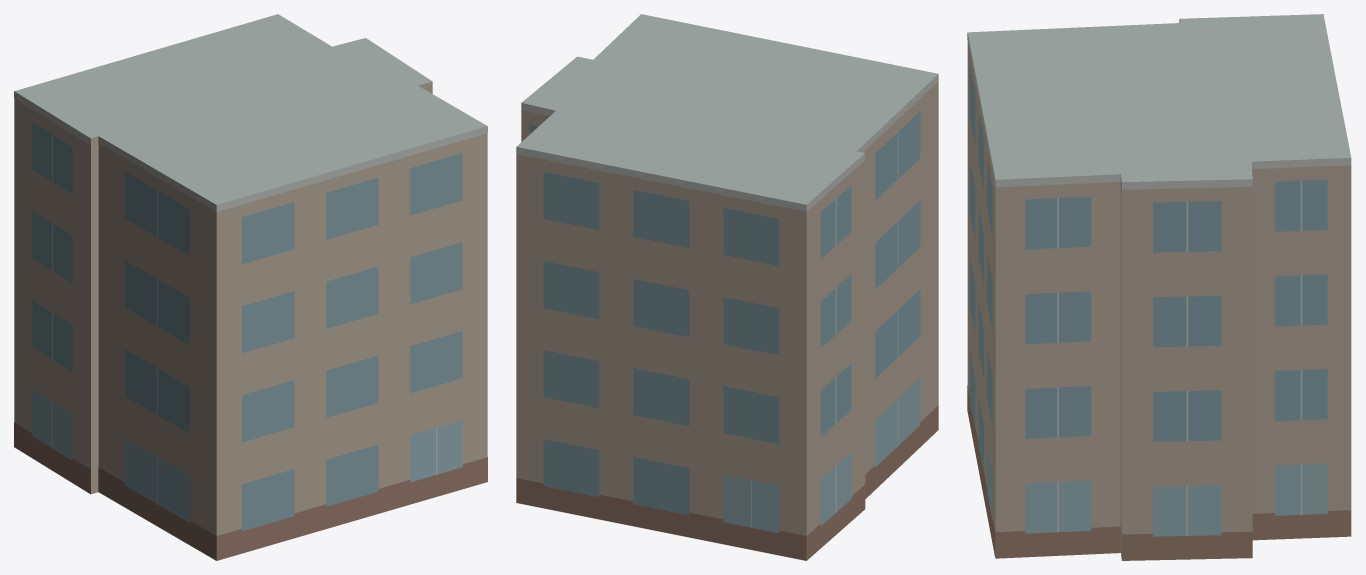
File: survey-upis-32712462.glb
The picture shows the model from 3 angles, left to right: view 1: azimuth 30°, elevation 25°; view 2: azimuth 150°, elevation 25°; view 3: azimuth 270°, elevation 25°; orthographic projection. The views are drawn at different scales.
Visible parts, largest first — view 1: survey-upis-32712462.tmp; view 2: survey-upis-32712462.tmp; view 3: survey-upis-32712462.tmp.
Part boxes in pixels (box(x1,y1,x2,y2)): survey-upis-32712462.tmp: box(14, 14, 487, 560); survey-upis-32712462.tmp: box(516, 14, 938, 560); survey-upis-32712462.tmp: box(967, 14, 1351, 560).
Size of the model in its own units: 11.65 by 12.22 by 11.23.
